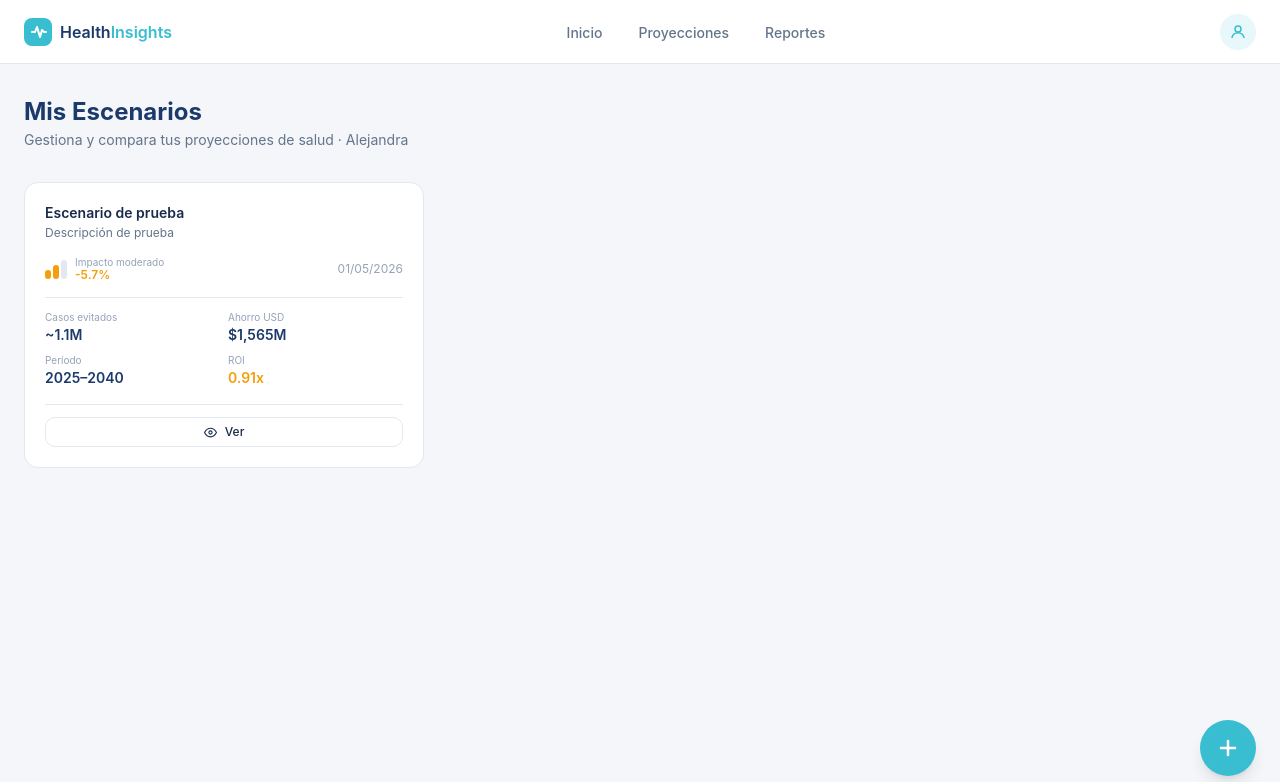
FinanzasProyeccionesPage › abre el modal de confirmación de eliminación desde el detalle
Check: the heading "Escenario de prueba" is shown, box [45, 204, 184, 221]
Click the button "Ver" at [224, 432], box [45, 417, 403, 447]
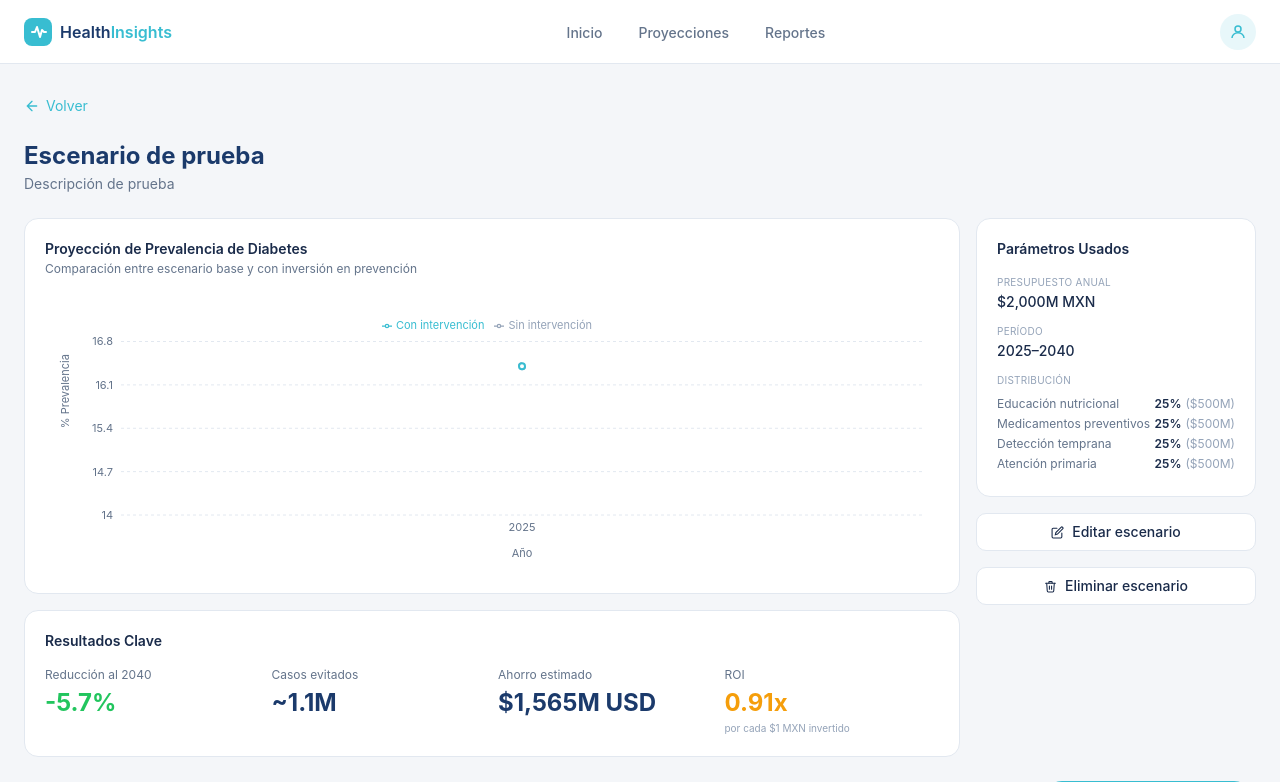
Check: the button "Eliminar escenario" is shown
Click the button "Eliminar escenario" at [1116, 586], box [976, 567, 1256, 605]
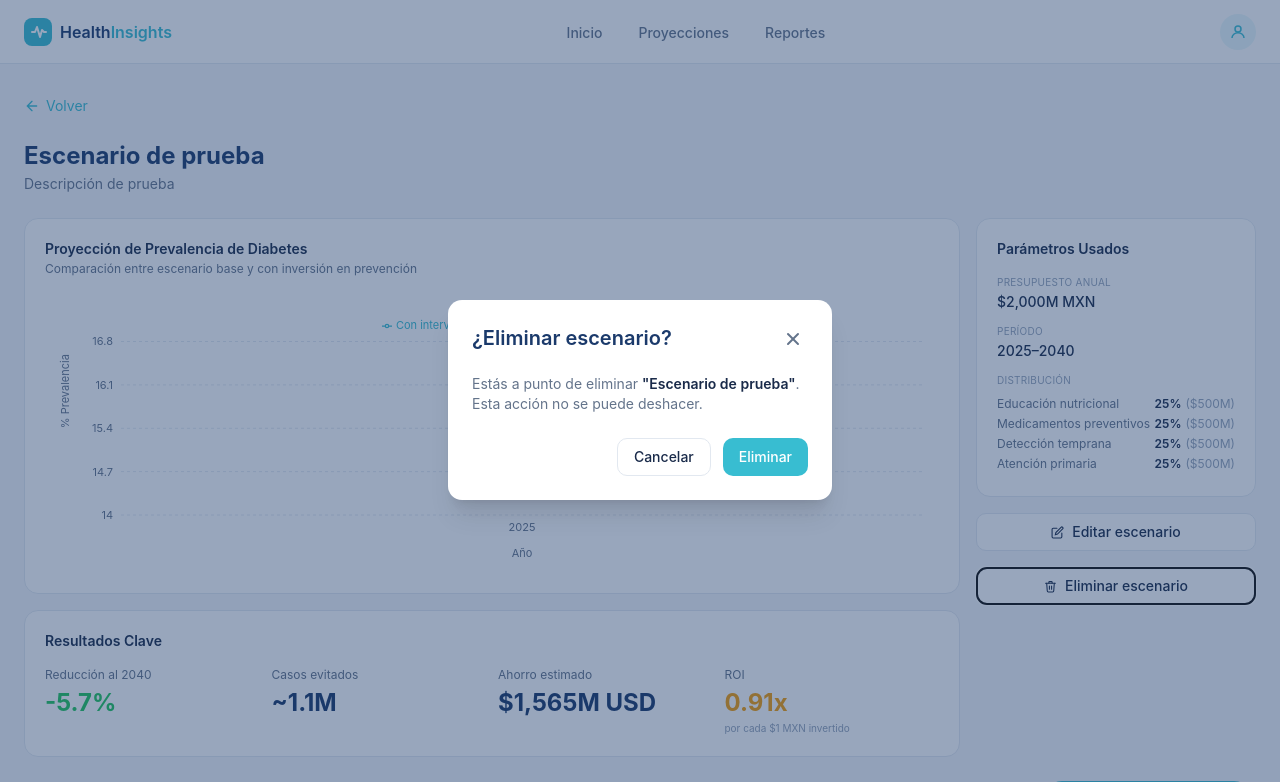
Check: the heading "¿Eliminar escenario?" is shown, box [472, 324, 672, 352]
